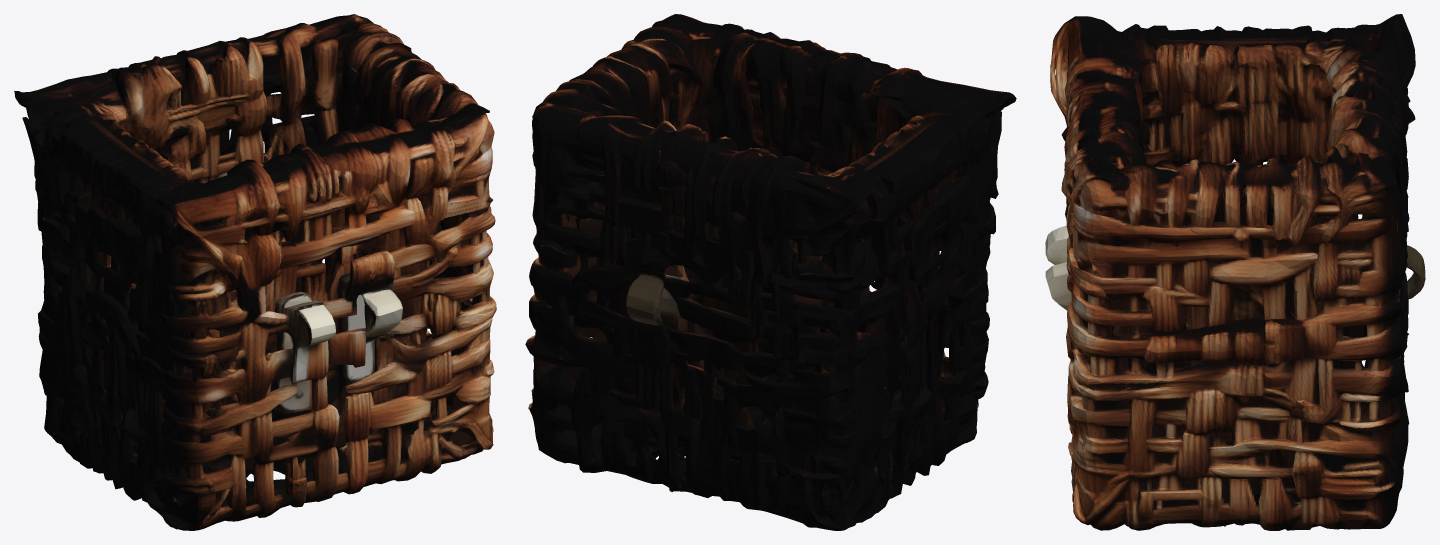
File: woven-rattan-light-switch-cover-rustic.jpeg.glb
The picture shows the model from 3 angles, left to right: view 1: azimuth 30°, elevation 25°; view 2: azimuth 150°, elevation 25°; view 3: azimuth 270°, elevation 25°; orthographic projection. The views are drawn at different scales.
Visible parts, largest first — view 1: world; view 2: world; view 3: world.
Part boxes in pixels (left/top/right/bottom): world: left=14, top=14, right=496, bottom=530; world: left=525, top=14, right=1016, bottom=530; world: left=1045, top=14, right=1425, bottom=530.
Bounding box in the file's own units: 0.9971 × 0.9913 × 0.8955.
1 material, 1 textured.
